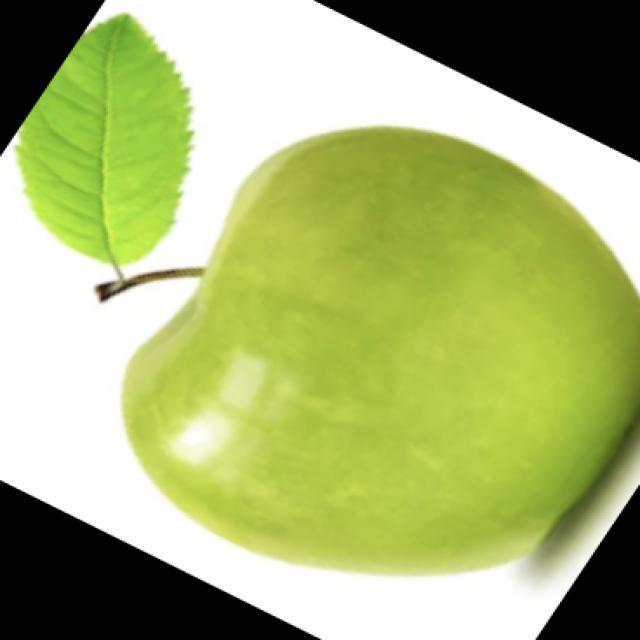Fresh Apple: (135, 100, 640, 562)
